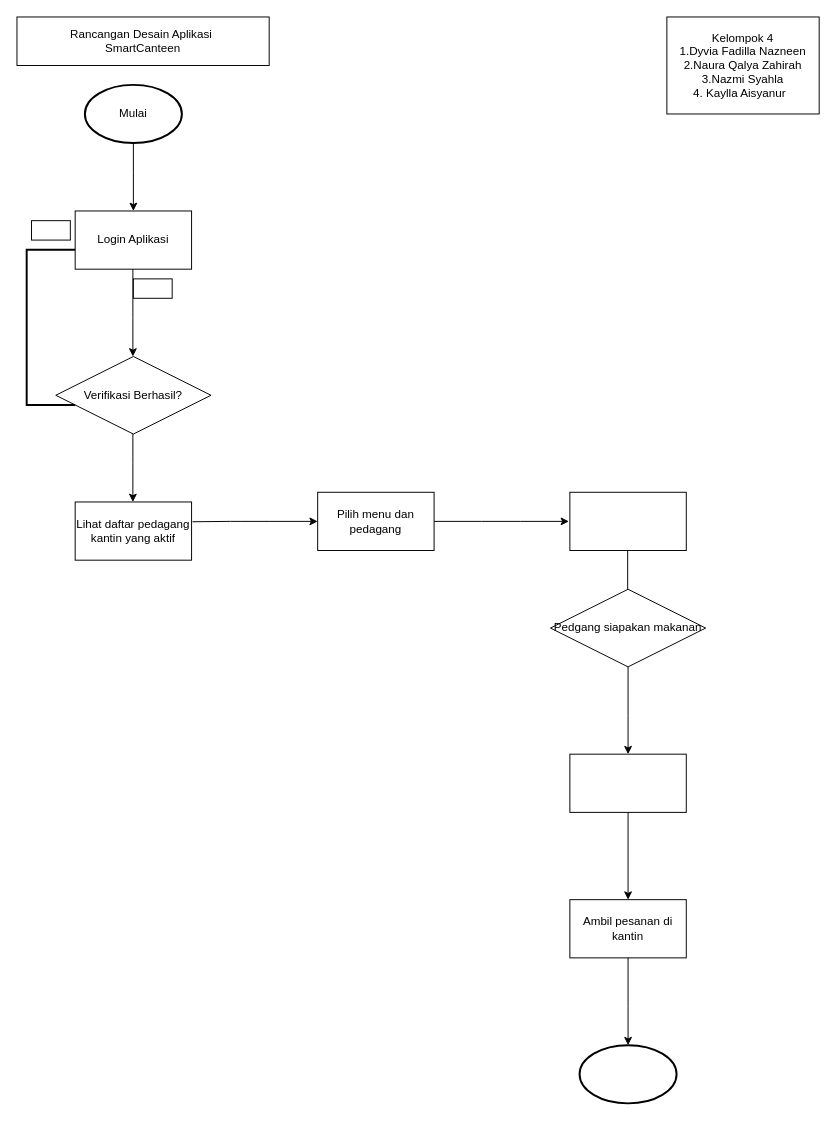
Some shapes in this 836 by 1121 pixel diagram are drawn without their labels. Each missing label, with the box of its shape:
iya: (132, 278, 172, 298)
Notifikasi "pesanan siap": (569, 753, 686, 812)
Pilih Metode pembayaran: (569, 491, 686, 550)
Selesai: (578, 1044, 677, 1104)
Tidak: (31, 220, 70, 240)
